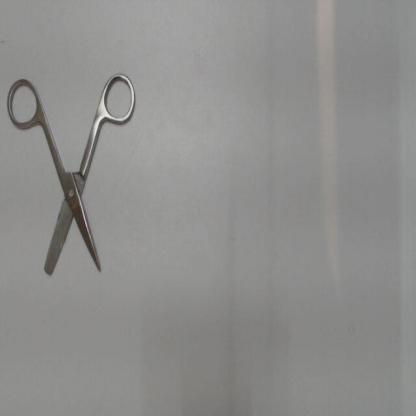Dressing Scissors: (1, 69, 144, 292)
